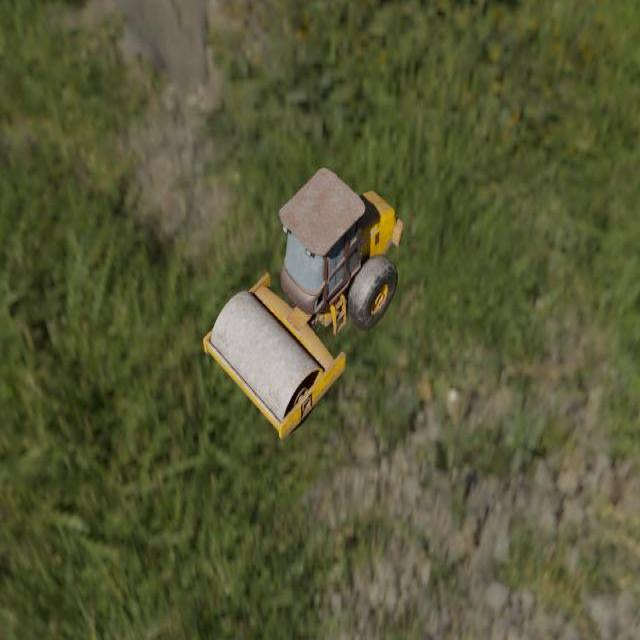Roller: (202, 167, 403, 440)
